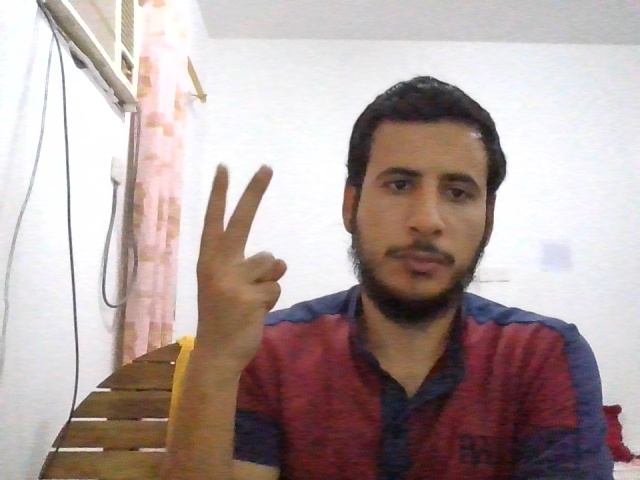Two: (196, 163, 287, 367)
